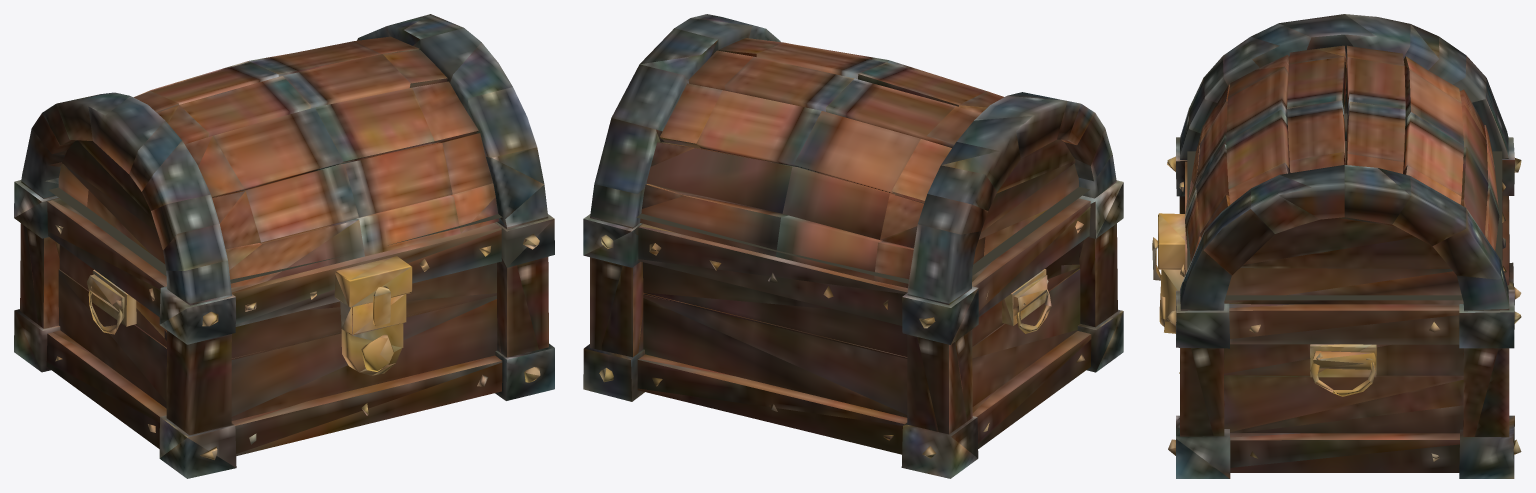
File: chest.lod1.glb
3 views of the same model, side by side, from view 1: azimuth 30°, elevation 25°; view 2: azimuth 150°, elevation 25°; view 3: azimuth 270°, elevation 25° (orthographic). The views are drawn at different scales.
Visible parts, largest first — view 1: Frame, Lid; view 2: Frame, Lid; view 3: Lid, Frame.
Part boxes in pixels (x1=…): Frame: x1=14, y1=175, x2=554, y2=478; Lid: x1=22, y1=14, x2=547, y2=296; Frame: x1=583, y1=175, x2=1123, y2=478; Lid: x1=591, y1=14, x2=1115, y2=296; Lid: x1=1182, y1=14, x2=1507, y2=302; Frame: x1=1152, y1=132, x2=1521, y2=478.
Size of the model in its own units: 0.768 by 0.6 by 0.684.
1 material, 1 textured.
